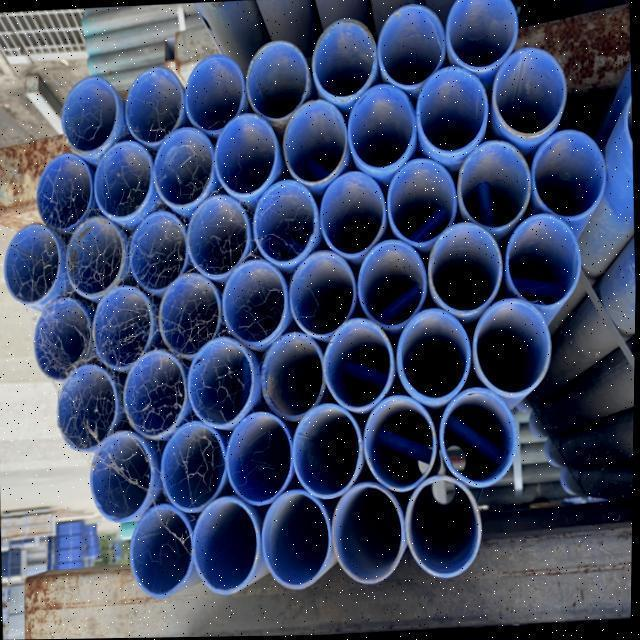pipe: (467, 300, 552, 402), (188, 492, 268, 594), (405, 475, 482, 575), (328, 481, 403, 583), (88, 430, 168, 524), (488, 48, 567, 142), (528, 130, 606, 225), (261, 486, 335, 586), (419, 222, 497, 316), (498, 219, 576, 313), (394, 308, 469, 405), (439, 392, 514, 488), (412, 63, 487, 159), (293, 399, 365, 498), (381, 156, 460, 245), (322, 318, 394, 414), (456, 143, 532, 233), (223, 411, 292, 509), (356, 241, 431, 331), (155, 273, 226, 367), (363, 403, 436, 492), (219, 256, 288, 350), (344, 81, 416, 170), (128, 502, 196, 596), (251, 178, 320, 269), (285, 248, 354, 338), (183, 336, 249, 429), (259, 331, 325, 424), (162, 422, 227, 516), (317, 167, 385, 256), (281, 96, 349, 185), (375, 1, 446, 86), (211, 105, 277, 196), (305, 19, 373, 106), (123, 346, 188, 437), (56, 358, 119, 449), (31, 294, 97, 380), (178, 195, 244, 281), (152, 121, 218, 207), (92, 284, 157, 371), (440, 0, 514, 75), (90, 138, 154, 224), (178, 52, 243, 136), (60, 215, 121, 304), (242, 40, 309, 121), (120, 211, 183, 297), (0, 219, 57, 308), (36, 148, 94, 235), (122, 64, 182, 148), (57, 74, 119, 154)
